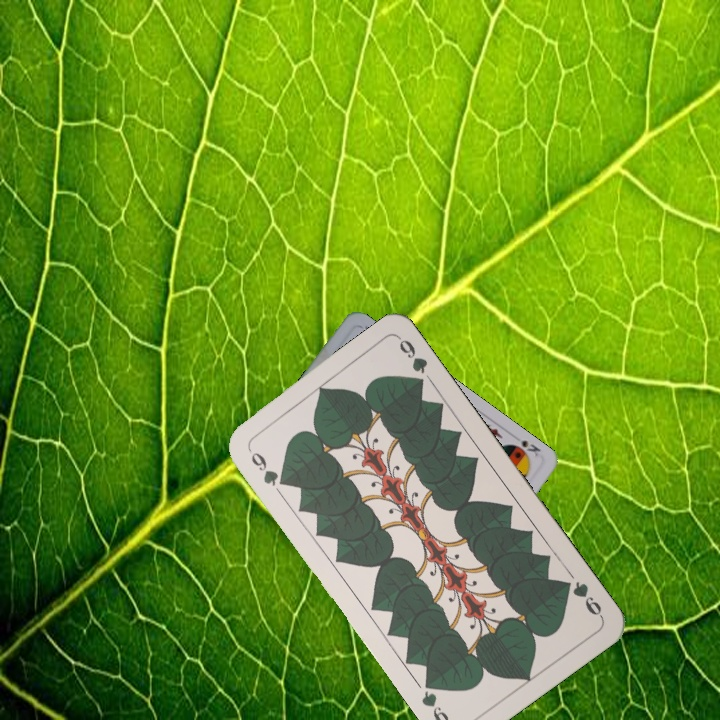G9: (557, 576, 606, 621), (246, 448, 291, 489)
SK: (506, 431, 543, 461)
